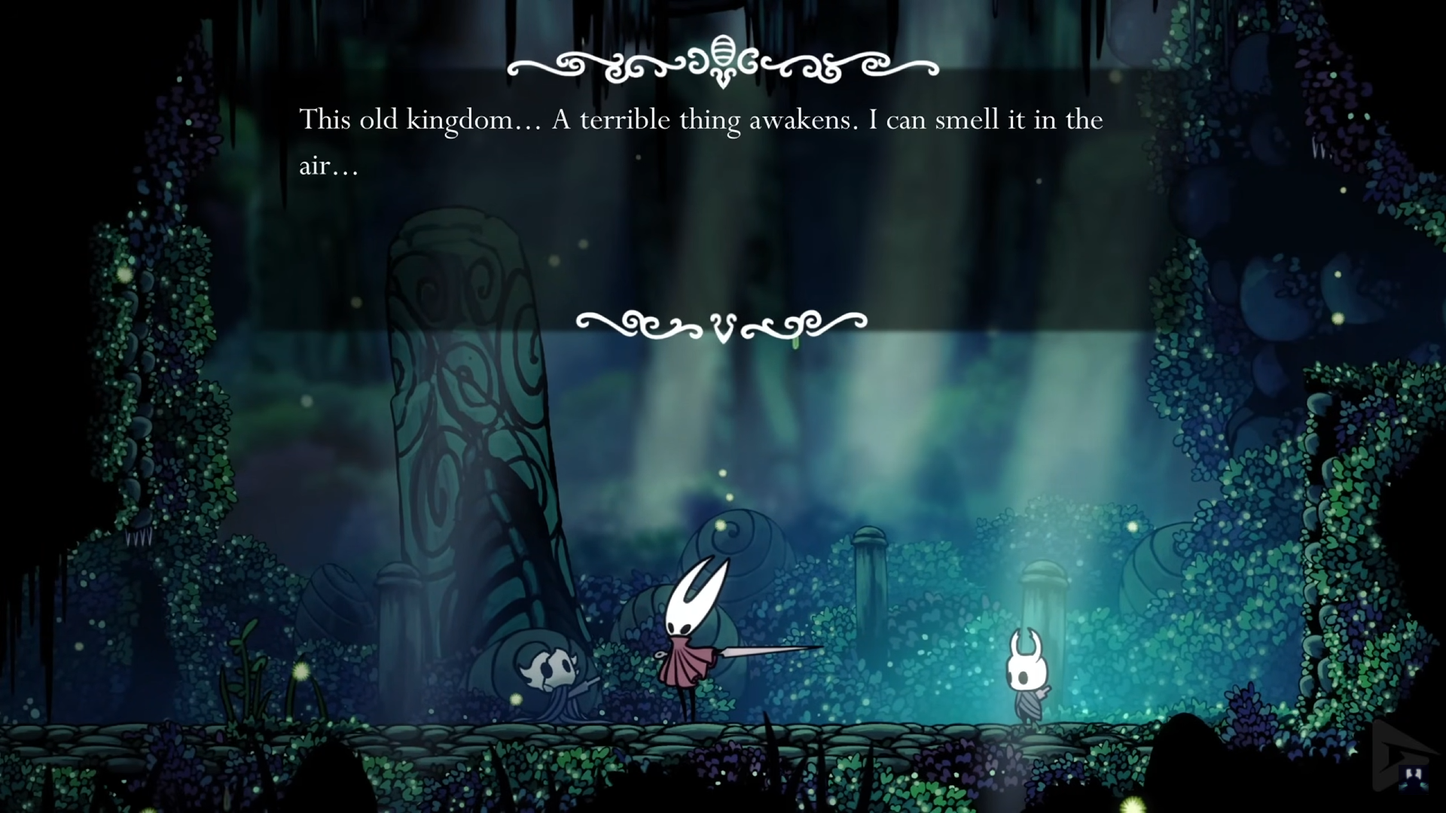HK: (998, 625, 1057, 723)
